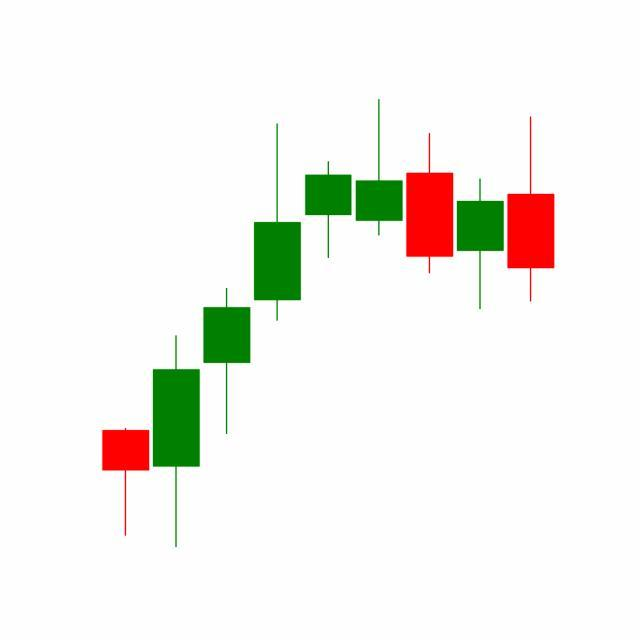Hikkake Pattern: (302, 99, 555, 313)
